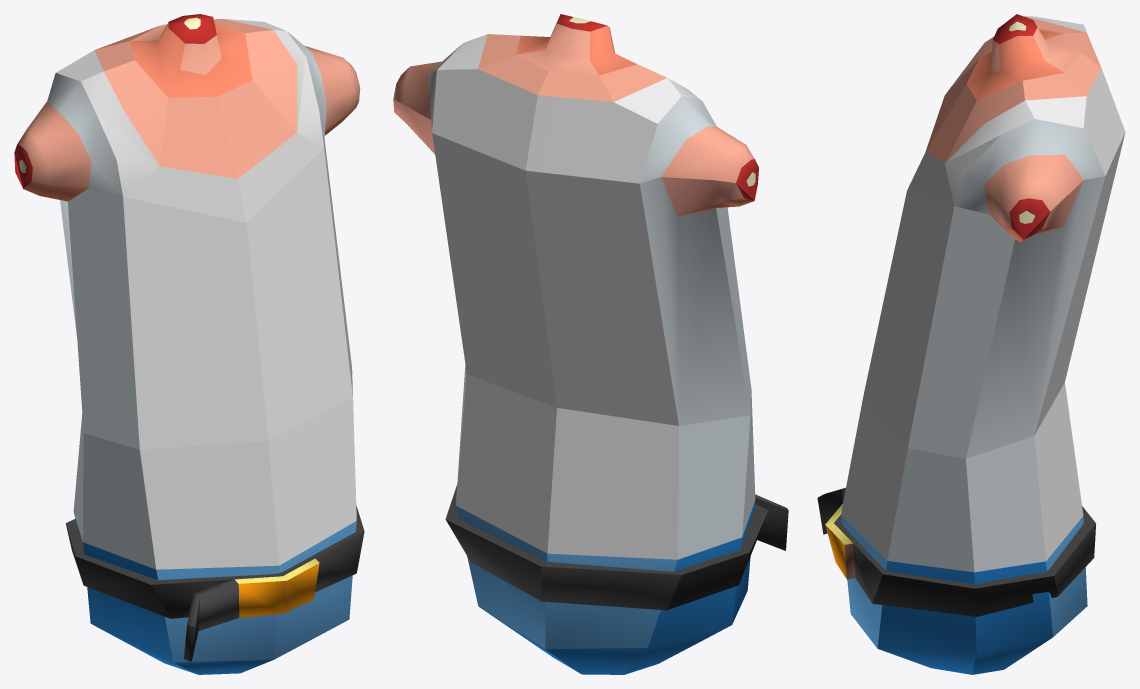
Rendered from TORSO.fbx.
The picture shows the model from 3 angles, left to right: view 1: azimuth 30°, elevation 25°; view 2: azimuth 150°, elevation 25°; view 3: azimuth 270°, elevation 25°; orthographic projection. The views are drawn at different scales.
Visible parts, largest first — view 1: Cube; view 2: Cube; view 3: Cube.
Part boxes in pixels (x1,y1,x2,y2): Cube: (14,14,364,674); Cube: (393,14,788,674); Cube: (817,14,1125,674).
Size of the model in its own units: 124 by 221 by 97.84.
1 material, 1 textured.
